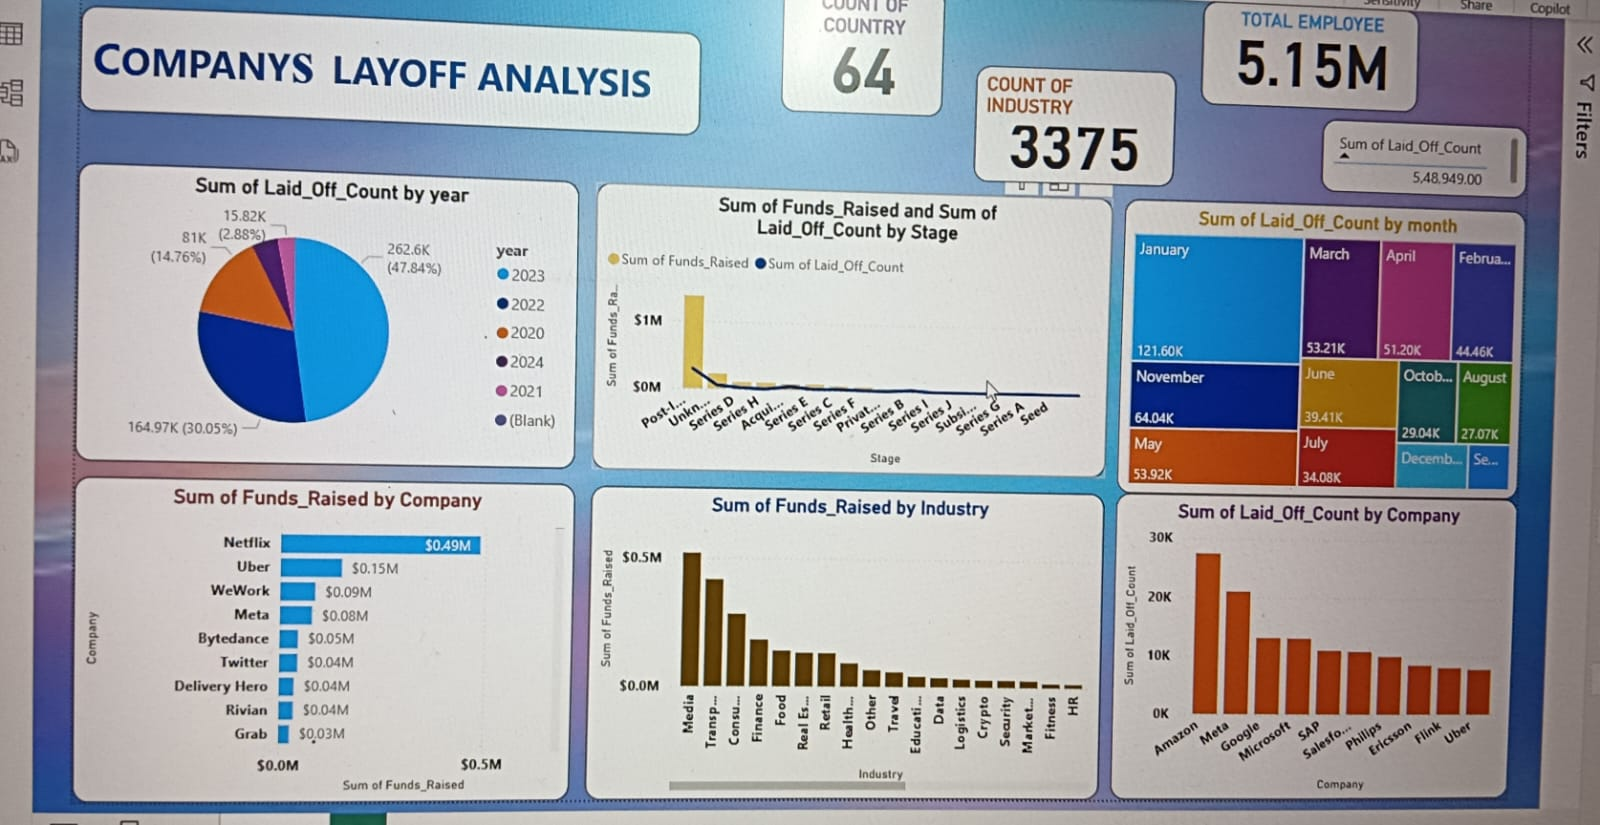

Layout of this report page (visuals, bound fields, positions):
{"tool":"powerbi","page":{"name":"Page 1","canvas":[1280,720],"ordinal":0},"visuals":[{"type":"treemap","fields":{"Group":["intern.month"],"Values":["Sum(intern.Laid_Off_Count)"]},"box":[904.6,178.5,375.3,264],"z":0},{"type":"columnChart","fields":{"Category":["intern.Company"],"Y":["Sum(intern.Laid_Off_Count)"]},"box":[904.3,442.9,375.7,277.1],"z":1000},{"type":"clusteredBarChart","fields":{"Category":["intern.Company"],"Y":["Sum(intern.Funds_Raised)"]},"box":[0,442.5,418.1,277.5],"z":2000},{"type":"lineStackedColumnComboChart","fields":{"Category":["intern.Stage"],"Y":["Sum(intern.Funds_Raised)"],"Y2":["Sum(intern.Laid_Off_Count)"]},"box":[432.7,178.5,460.8,250.6],"z":3000},{"type":"columnChart","fields":{"Category":["intern.Industry"],"Y":["Sum(intern.Funds_Raised)"]},"box":[432.7,443.7,460.8,276.3],"z":4000},{"type":"pieChart","fields":{"Category":["intern.year"],"Y":["Sum(intern.Laid_Off_Count)"]},"box":[0,178.8,417.5,250],"z":5000},{"type":"card","title":"TOTAL EMPLOYEE","fields":{"Values":["Sum(intern.totalemployee)"]},"box":[970.6,0,201.7,91.7],"z":6000},{"type":"card","title":"COUNT OF INDUSTRY","fields":{"Values":["CountNonNull(intern.Industry)"]},"box":[766.5,64.8,180.9,101.5],"z":7000},{"type":"tableEx","fields":{"Values":["Sum(intern.Laid_Off_Count)"]},"box":[1084.3,101.5,195.6,64.8],"z":8000},{"type":"card","title":"COUNT OF COUNTRY","fields":{"Values":["Count(intern.Country)"]},"box":[592.9,0,143,110],"z":9000},{"type":"textbox","box":[0,46.5,522,88],"z":10000}]}

Visuals, with their boxes in screenshot pixels (x1, y1, x2, y2):
treemap - intern.month x Sum(intern.Laid_Off_Count): Rect(1103, 207, 1512, 495)
columnChart - intern.Company x Sum(intern.Laid_Off_Count): Rect(1102, 495, 1512, 797)
clusteredBarChart - intern.Company x Sum(intern.Funds_Raised): Rect(117, 495, 572, 797)
lineStackedColumnComboChart - intern.Stage x Sum(intern.Funds_Raised): Rect(588, 207, 1091, 480)
columnChart - intern.Industry x Sum(intern.Funds_Raised): Rect(588, 496, 1091, 797)
pieChart - intern.year x Sum(intern.Laid_Off_Count): Rect(117, 207, 572, 480)
"TOTAL EMPLOYEE" card: Rect(1175, 12, 1394, 112)
"COUNT OF INDUSTRY" card: Rect(952, 83, 1149, 194)
tableEx - Sum(intern.Laid_Off_Count): Rect(1298, 123, 1512, 194)
"COUNT OF COUNTRY" card: Rect(763, 12, 919, 132)
textbox: Rect(117, 63, 686, 159)
